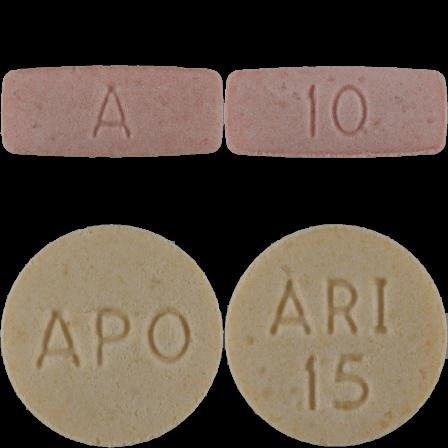48433-117: (0, 0, 224, 224)
